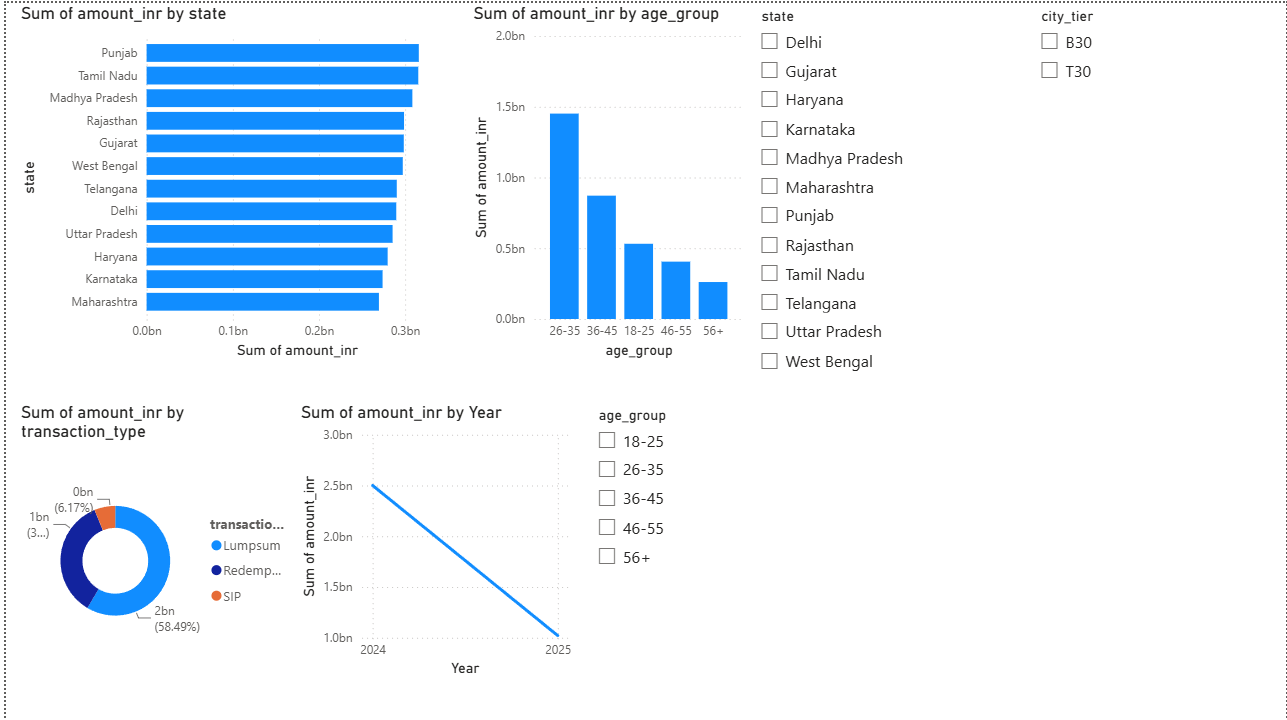

What the dashboard file says about the page in this screenshot:
{"tool":"powerbi","page":{"name":"Investor Analytics","canvas":[1280,720],"ordinal":2},"visuals":[{"type":"clusteredBarChart","fields":{"Category":["08_investor_transactions.state"],"Y":["Sum(08_investor_transactions.amount_inr)"]},"box":[10,0,280,280],"z":0},{"type":"donutChart","fields":{"Category":["08_investor_transactions.transaction_type"],"Y":["Sum(08_investor_transactions.amount_inr)"]},"box":[10,290,280,280],"z":1},{"type":"clusteredColumnChart","fields":{"Category":["08_investor_transactions.age_group"],"Y":["Sum(08_investor_transactions.amount_inr)"]},"box":[290,0,280,280],"z":2},{"type":"lineChart","fields":{"Category":["08_investor_transactions.transaction_date.Variation.Date Hierarchy.Year","08_investor_transactions.transaction_date.Variation.Date Hierarchy.Quarter","08_investor_transactions.transaction_date.Variation.Date Hierarchy.Month","08_investor_transactions.transaction_date.Variation.Date Hierarchy.Day"],"Y":["Sum(08_investor_transactions.amount_inr)"]},"box":[290,290,280,280],"z":3},{"type":"slicer","fields":{"Values":["08_investor_transactions.city_tier"]},"box":[882,0,258,280],"z":4},{"type":"slicer","fields":{"Values":["08_investor_transactions.age_group"]},"box":[580,290,280,280],"z":5},{"type":"slicer","fields":{"Values":["08_investor_transactions.state"]},"box":[580,0,280,280],"z":6}]}

Visuals, with their boxes in screenshot pixels (x1, y1, x2, y2), scaled from the page's 1280x720 canvas onto the 1287x720 screenshot:
clusteredBarChart - 08_investor_transactions.state x Sum(08_investor_transactions.amount_inr): left=10, top=0, right=292, bottom=280
donutChart - 08_investor_transactions.transaction_type x Sum(08_investor_transactions.amount_inr): left=10, top=290, right=292, bottom=570
clusteredColumnChart - 08_investor_transactions.age_group x Sum(08_investor_transactions.amount_inr): left=292, top=0, right=573, bottom=280
lineChart - 08_investor_transactions.transaction_date.Variation.Date Hierarchy.Year x 08_investor_transactions.transaction_date.Variation.Date Hierarchy.Quarter: left=292, top=290, right=573, bottom=570
slicer - 08_investor_transactions.city_tier: left=887, top=0, right=1146, bottom=280
slicer - 08_investor_transactions.age_group: left=583, top=290, right=865, bottom=570
slicer - 08_investor_transactions.state: left=583, top=0, right=865, bottom=280
